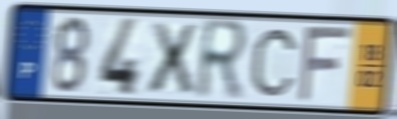4: (97, 16, 143, 98)
8: (49, 14, 93, 95)
C: (249, 26, 300, 99)
F: (295, 24, 355, 105)
R: (194, 16, 252, 104)
X: (146, 20, 199, 96)
